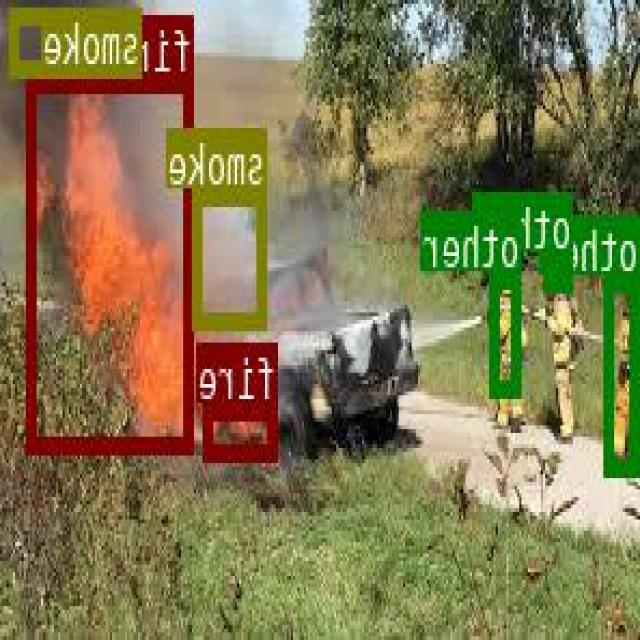fire: (29, 74, 196, 448), (205, 401, 279, 456)
other: (606, 274, 640, 474), (493, 268, 523, 394), (547, 250, 575, 287)
smoke: (195, 186, 268, 325), (12, 5, 143, 74)
